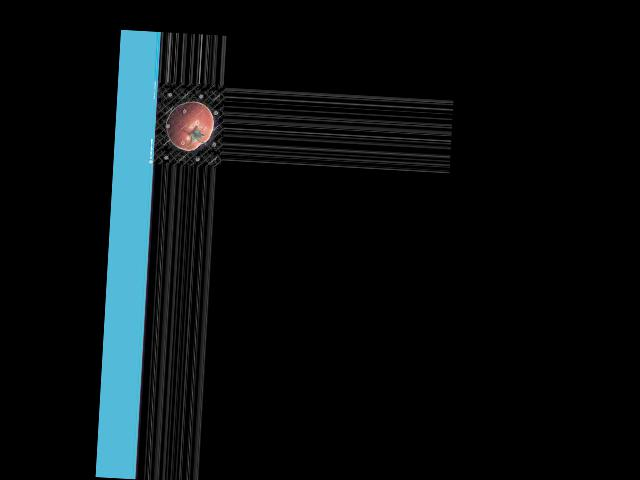tomato: (165, 99, 214, 152)
